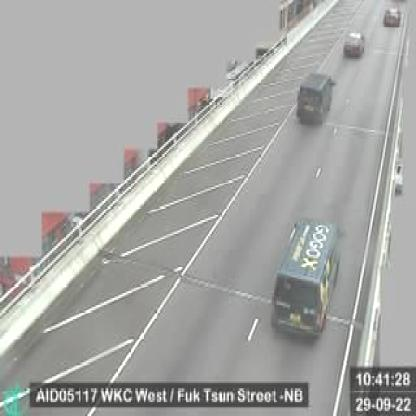Car: (258, 210, 352, 343), (294, 68, 335, 134), (342, 28, 365, 59), (384, 5, 402, 28)
